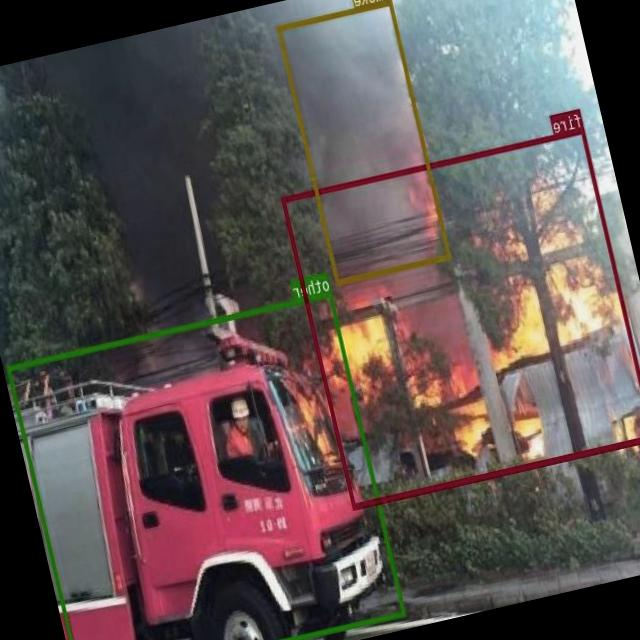fire: (281, 126, 640, 508)
smoke: (276, 0, 451, 283)
